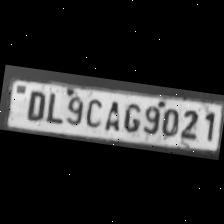0: (158, 102, 182, 136)
1: (198, 107, 218, 142)
2: (177, 106, 201, 140)
9: (139, 100, 162, 134), (62, 92, 84, 125)
A: (101, 97, 122, 131)
C: (82, 94, 106, 127)
D: (22, 86, 48, 122)
G: (119, 99, 144, 133)
L: (43, 88, 64, 124)
